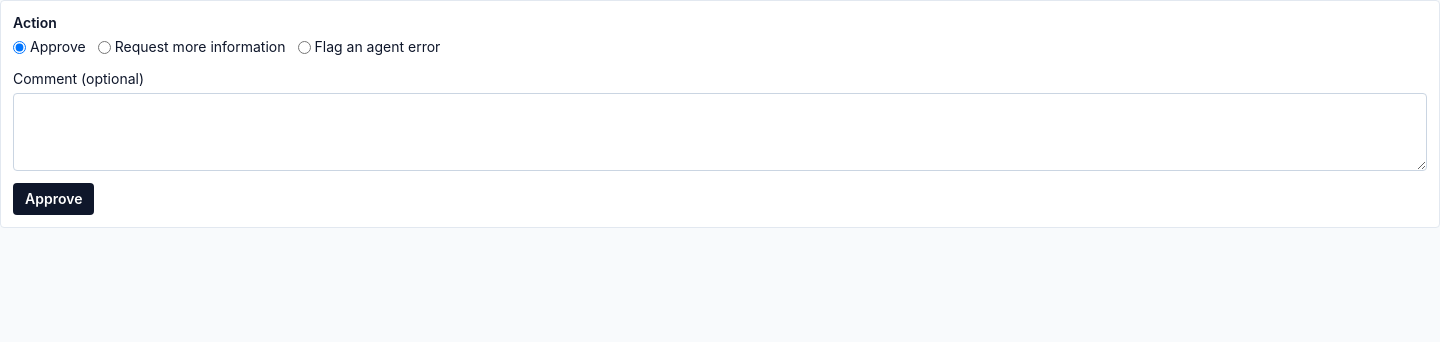
Test: ReviewActions › flags an error on one criterion with its corrected status
The image size is (1440, 342).
Click the radio button labelled "Flag an agent error" at point(304, 47), box [298,40,310,54]
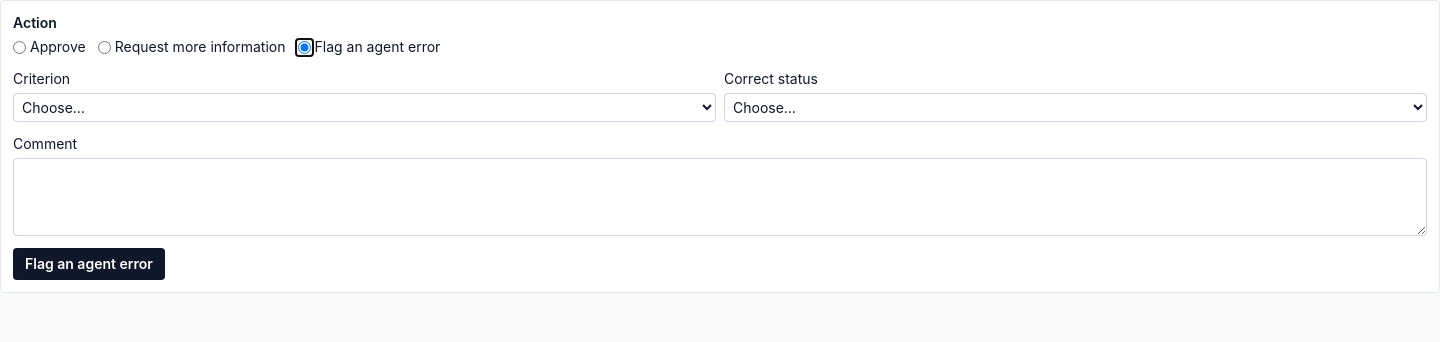
Select "Conservative therapy tried" in the dropdown labelled "Criterion" at point(364, 108), box [13,93,716,122]
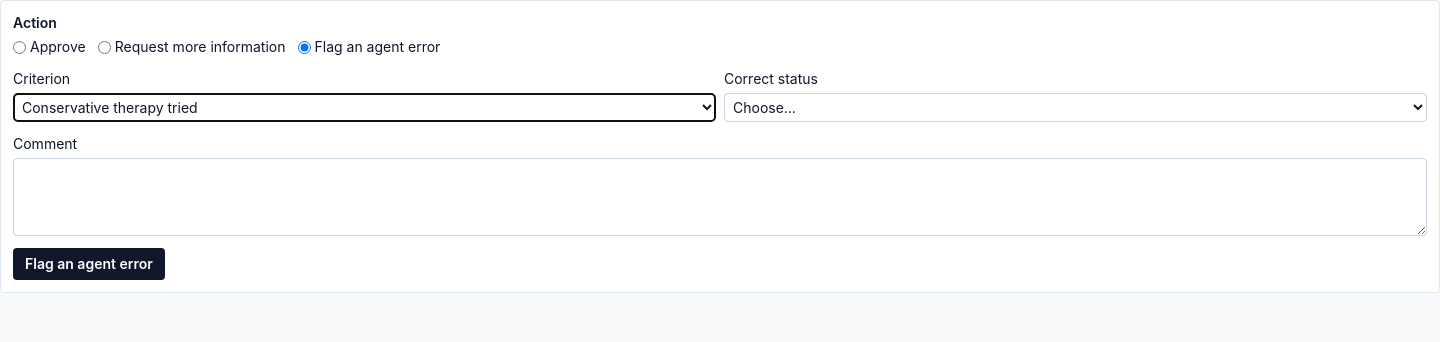
Select "NOT_MET" in the dropdown labelled "Correct status" at point(1076, 108), box [724,93,1427,122]
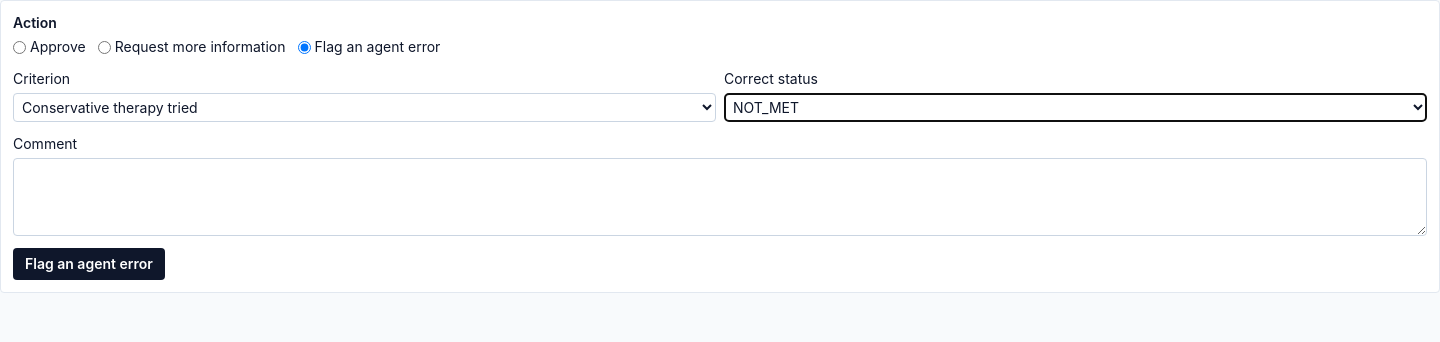
Type "The quote is about the other knee" into the text box labelled "Comment" at point(720, 197), box [13,158,1427,236]
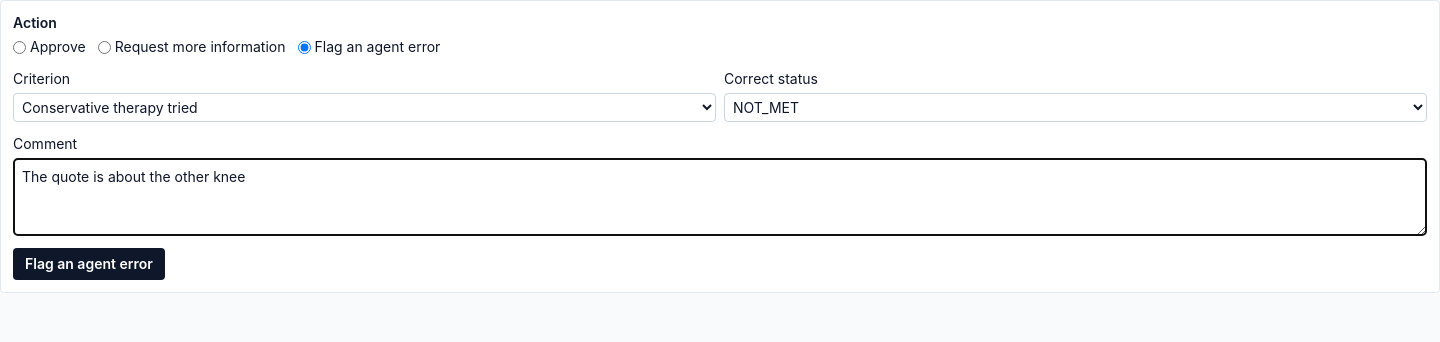
Click the button "Flag an agent error" at point(89, 264), box [13,248,165,280]
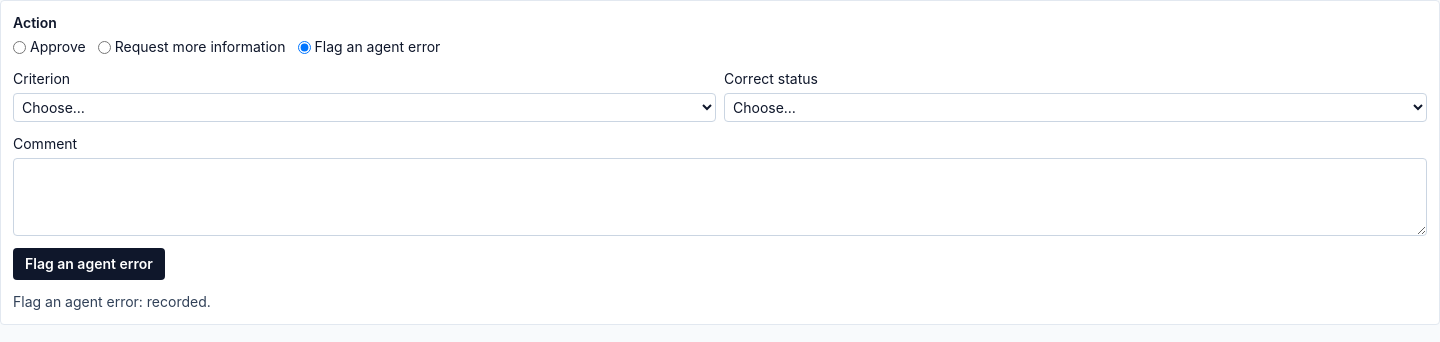
expect the message shows "recorded": met, box [13,293,211,310]
